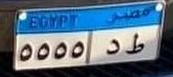5: (70, 39, 86, 60), (18, 42, 34, 63), (37, 39, 51, 62), (53, 40, 69, 60)
Taa: (125, 33, 146, 57)
daal: (105, 38, 122, 57)
